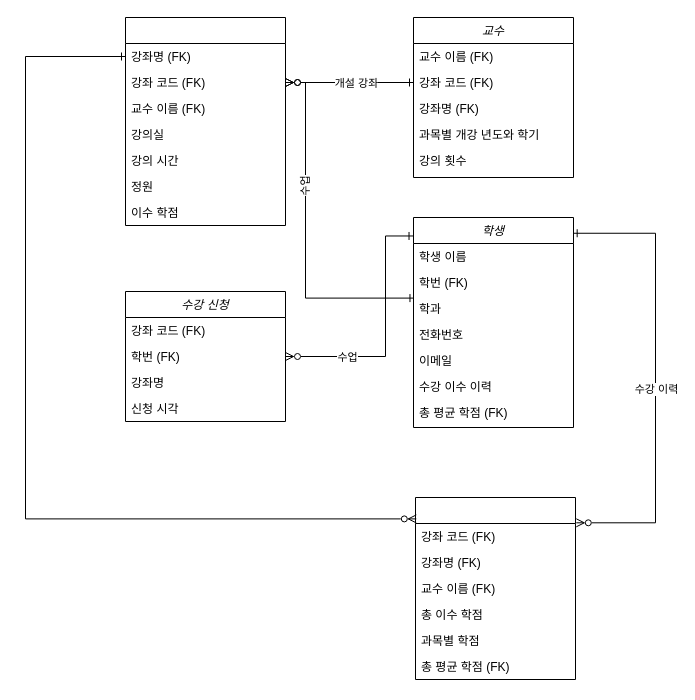
Image size: 695x700. Some labels were removed from this diagram. Each missing label, with the box of its shape:
교과목: (124, 16, 286, 226)
수강 과목: (414, 496, 576, 680)
